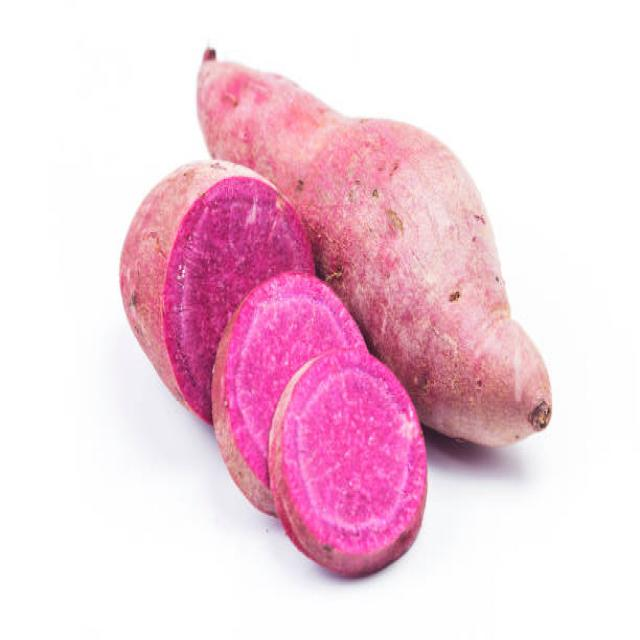Sweet Potato: (414, 116, 556, 464), (274, 346, 421, 572), (107, 160, 265, 344)
